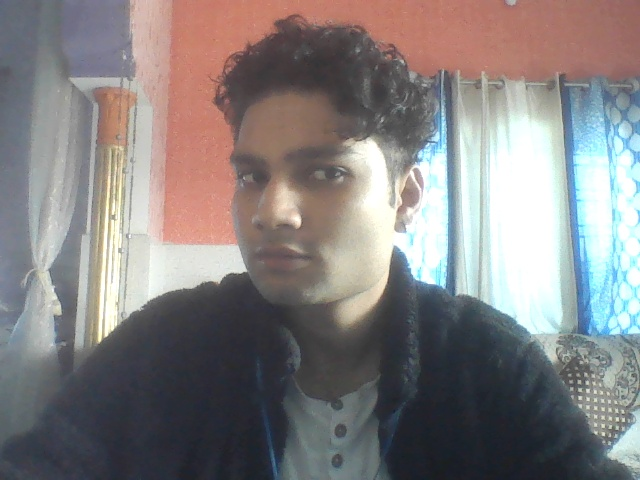real: (204, 10, 430, 331)
